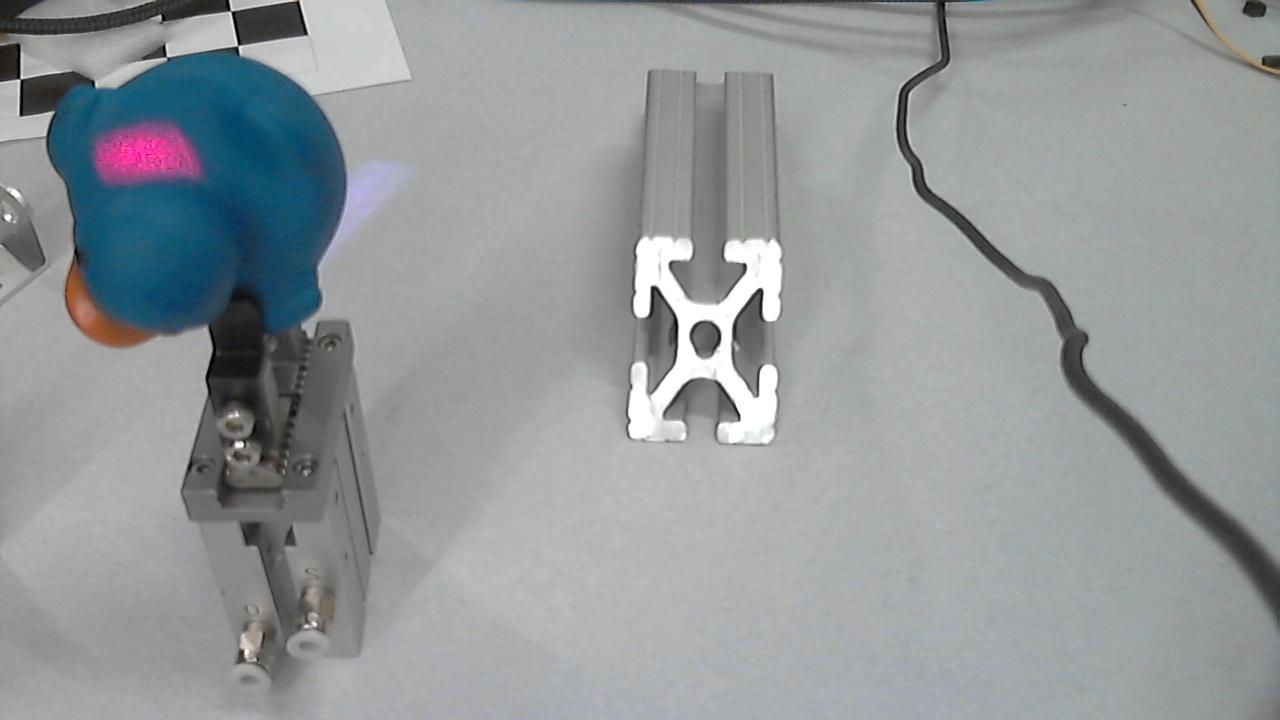Object rubber duck - Material rubber -Color blue - Pdfname BWuUnwTLudUE: (68, 112, 225, 202)
